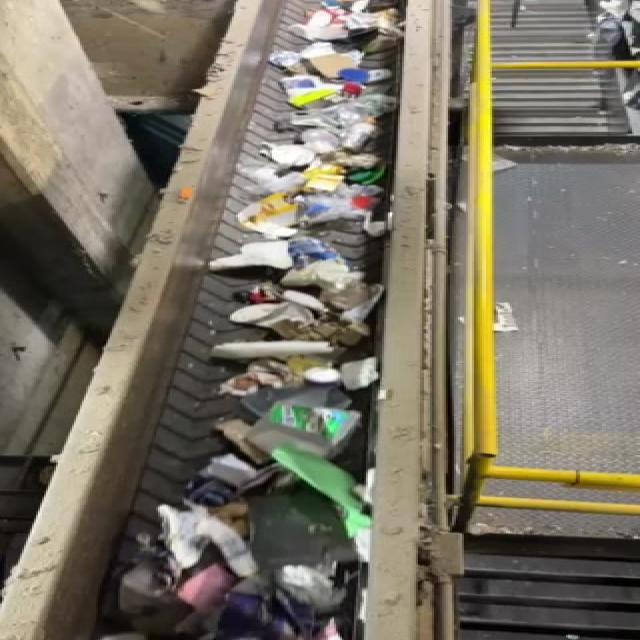paper: (136, 498, 252, 604), (277, 566, 357, 620), (277, 400, 370, 440)
pp: (265, 437, 385, 535)
